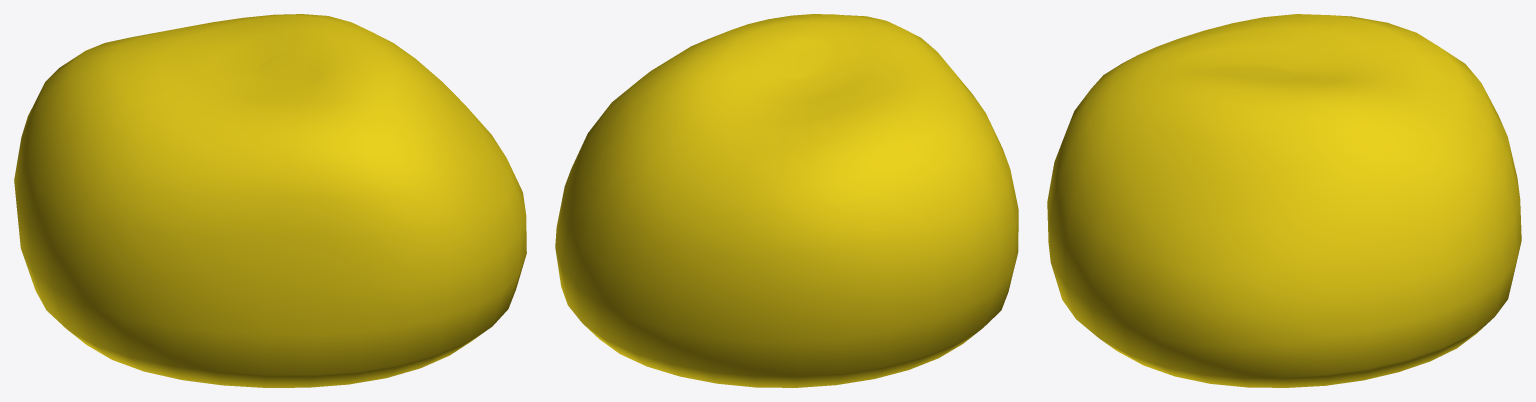
Rendered from BrainCoral.fbx.
3 renders of one model, left to right at view 1: azimuth 30°, elevation 25°; view 2: azimuth 150°, elevation 25°; view 3: azimuth 270°, elevation 25°, orthographic. The views are drawn at different scales.
Parts seen in each view (by area): view 1: BrainCoral; view 2: BrainCoral; view 3: BrainCoral.
Boxes of the visible parts, x1,y1,x2,y2 form: BrainCoral: [14, 14, 526, 387]; BrainCoral: [555, 14, 1018, 387]; BrainCoral: [1047, 14, 1521, 387].
Bounding box in the file's own units: 1.94 × 1.06 × 1.91.
